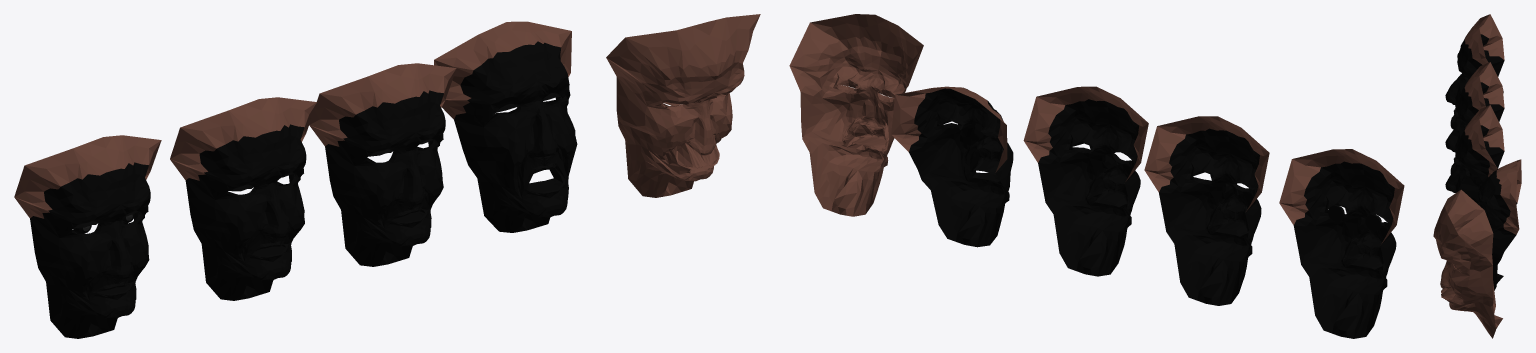
The model's file is ACHOOO.obj.
3 views of the same model, side by side, from view 1: azimuth 30°, elevation 25°; view 2: azimuth 150°, elevation 25°; view 3: azimuth 270°, elevation 25° (orthographic). The views are drawn at different scales.
Bounding box in the file's own units: 631 × 176 × 107.
